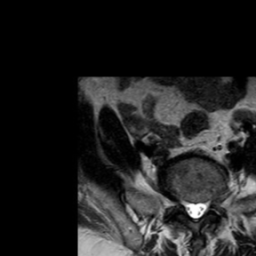CCS_normal: (191, 192, 199, 227)
LFS_stenosis: (208, 190, 217, 216)
LLS_normal: (199, 192, 208, 222)
RFS_stenosis: (175, 187, 183, 211)
RLS_normal: (183, 191, 191, 222)
